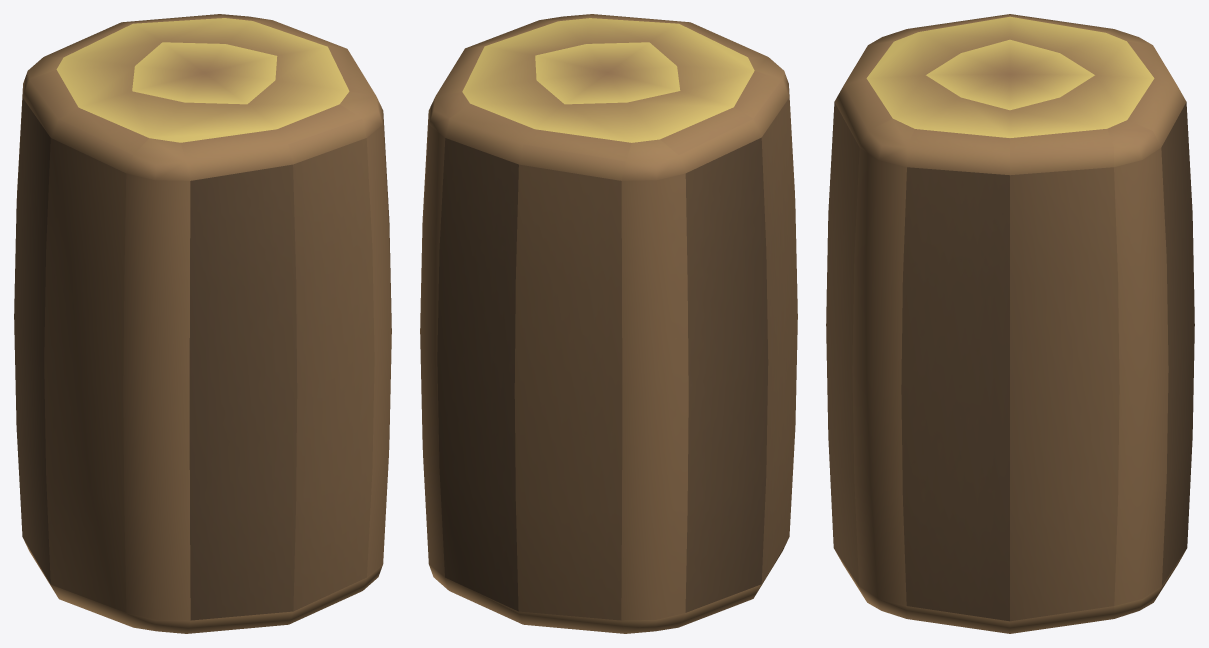
The model's file is wooden_cubes6.fbx.
3 views of the same model, side by side, from view 1: azimuth 30°, elevation 25°; view 2: azimuth 150°, elevation 25°; view 3: azimuth 270°, elevation 25° (orthographic).
Parts seen in each view (by area): view 1: wooden_cubes6; view 2: wooden_cubes6; view 3: wooden_cubes6.
Boxes of the visible parts, box(x1,y1,x2,y2) form: wooden_cubes6: box(14, 14, 391, 633); wooden_cubes6: box(420, 14, 797, 633); wooden_cubes6: box(826, 14, 1194, 633).
Bounding box in the file's own units: 7143 × 10756 × 7182.
1 material, 1 textured.
